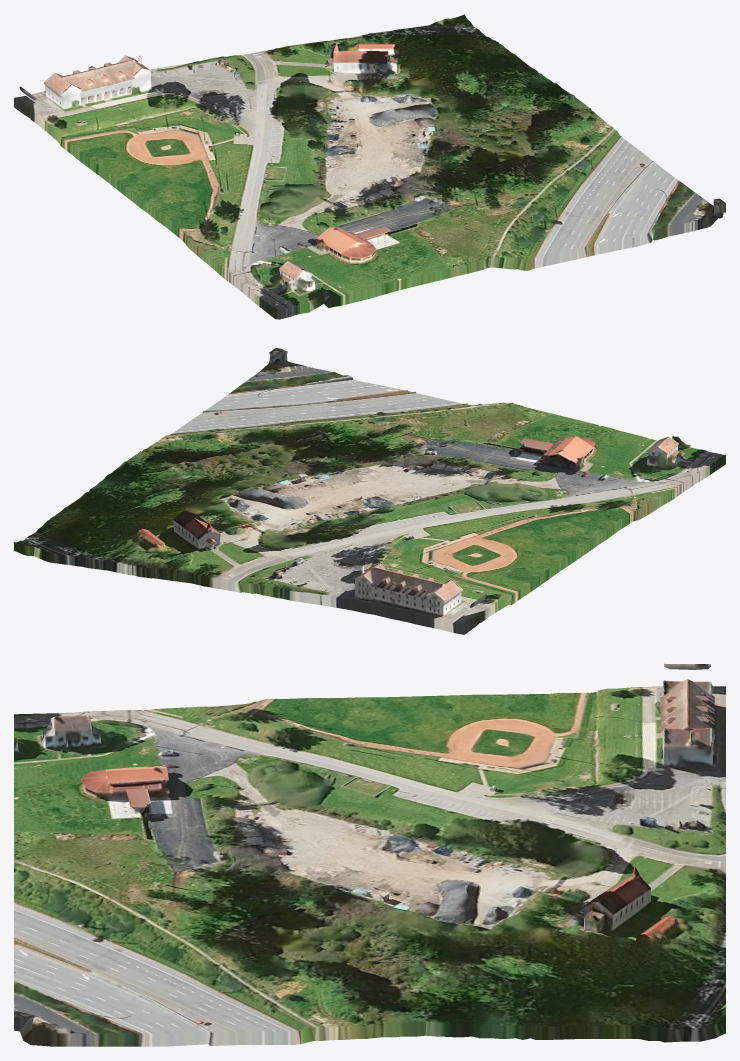
Rendered from z17-20944-50648-h0-yup-uvflip-v3-world.glb.
The picture shows the model from 3 angles, top to bottom: view 1: azimuth 30°, elevation 25°; view 2: azimuth 150°, elevation 25°; view 3: azimuth 270°, elevation 25°; orthographic projection. The views are drawn at different scales.
Size of the model in its own units: 241 by 35.2 by 243.
1 material, 1 textured.
